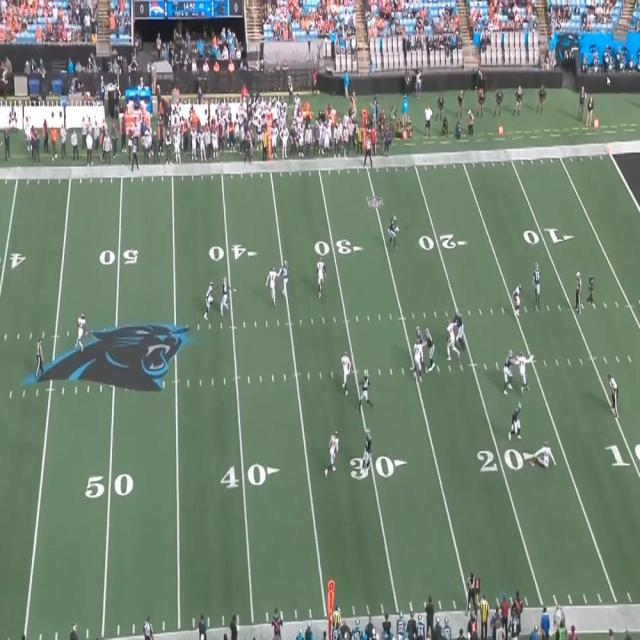db: (326, 432, 339, 477), (316, 260, 326, 299), (79, 312, 89, 350), (270, 264, 279, 300), (206, 284, 214, 320)
lb: (342, 353, 354, 396), (513, 284, 522, 318)
qb: (533, 264, 541, 306)
skill: (362, 371, 372, 407), (222, 280, 231, 316), (280, 262, 290, 294), (391, 216, 398, 248)
